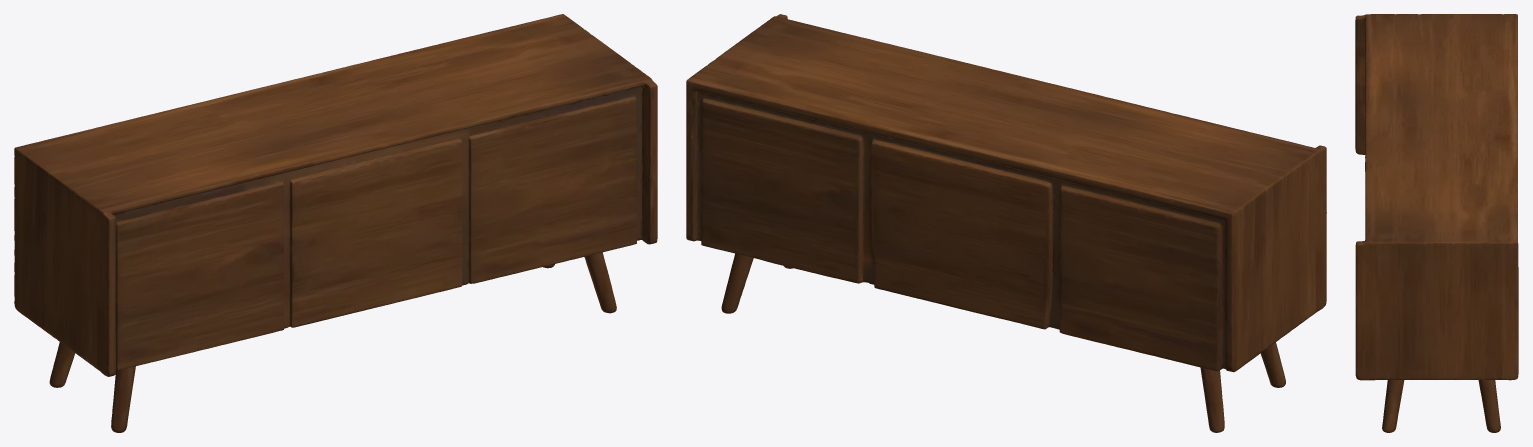
The model's file is sideboard.glb.
3 renders of one model, left to right at view 1: azimuth 30°, elevation 25°; view 2: azimuth 150°, elevation 25°; view 3: azimuth 270°, elevation 25°, orthographic. The views are drawn at different scales.
Parts seen in each view (by area): view 1: geometry_0; view 2: geometry_0; view 3: geometry_0.
Boxes of the visible parts, box(x1,y1,x2,y2) form: geometry_0: box(14, 14, 657, 432); geometry_0: box(686, 14, 1326, 432); geometry_0: box(1355, 14, 1518, 432).
Size of the model in its own units: 1 by 0.4103 by 0.3019.
1 material, 1 textured.
